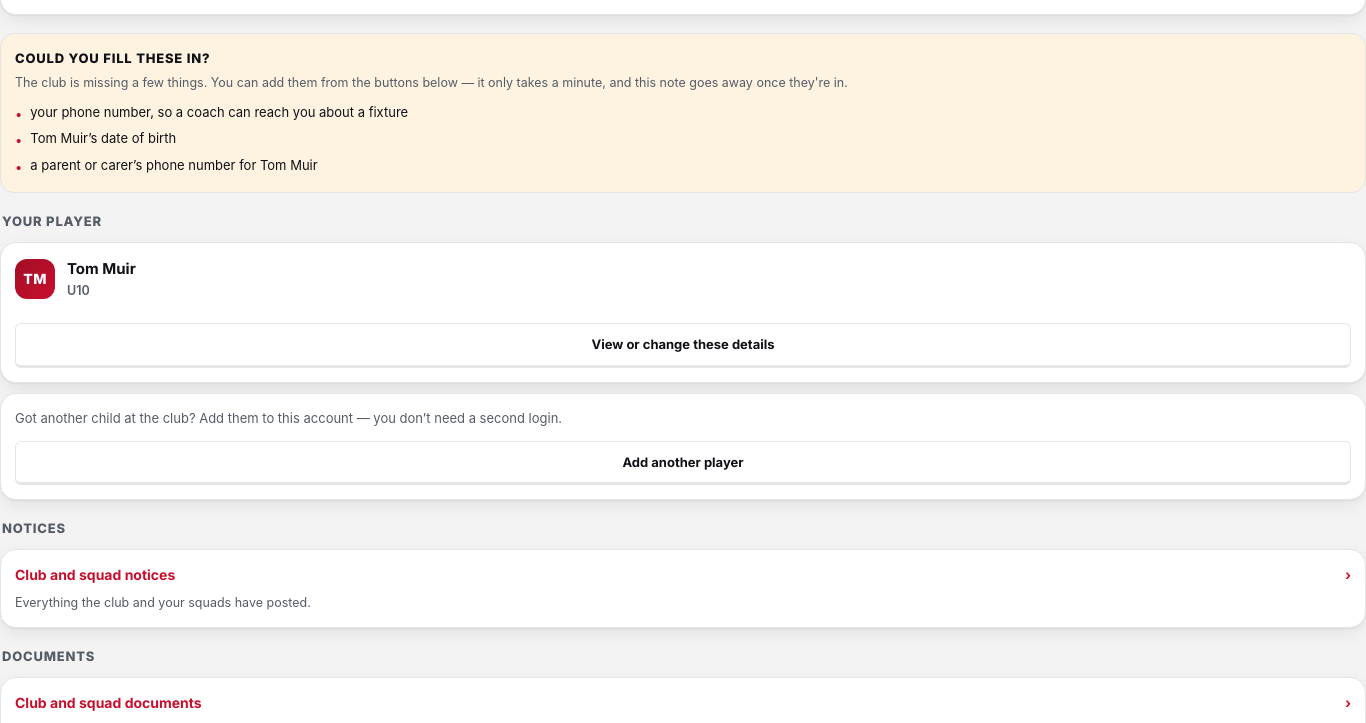
it: More — your players › opens the player form in place instead of navigating to the roster
(page scrolled)
Click the button "View or change these details". click: (683, 345)
box: [15,323,1351,368]
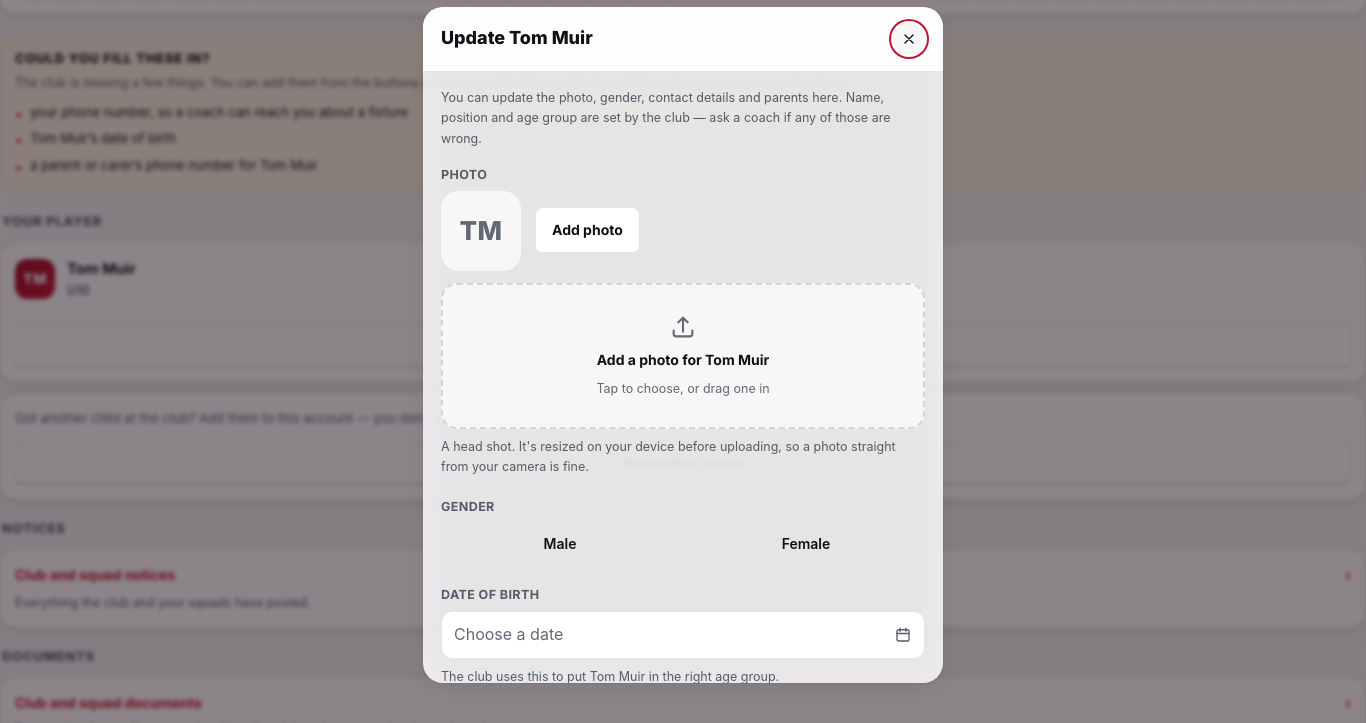
Result: the dialog shows "Tom Muir" at [590,669,645,684]
